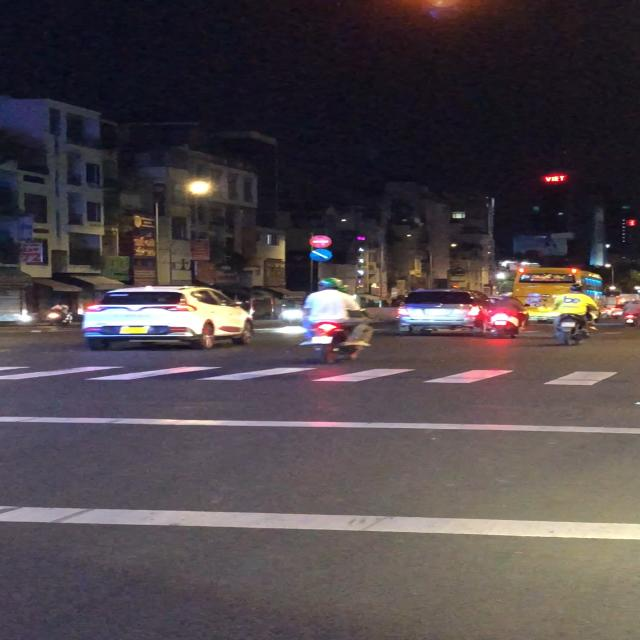Bien bao cam di nguoc chieu: (309, 235, 333, 248)
Bien bao huong phai di vong chuong ngai vat: (309, 248, 334, 262)
